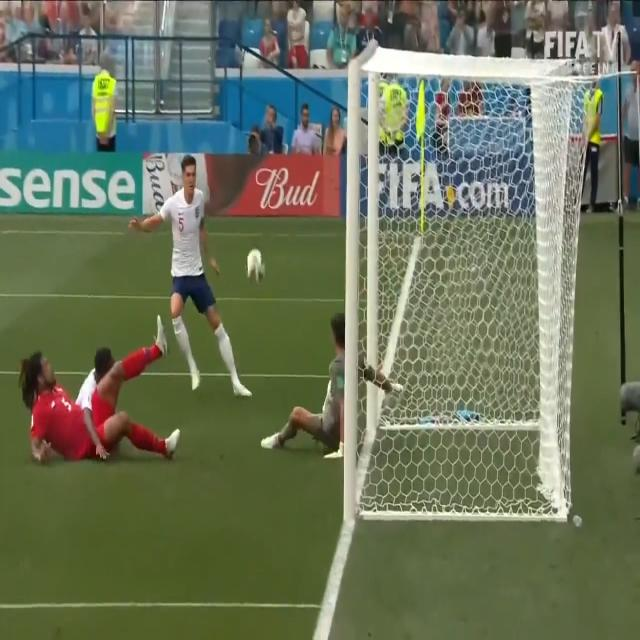ball: (242, 244, 265, 283)
player: (127, 152, 252, 398), (17, 354, 183, 465), (78, 343, 112, 403)
